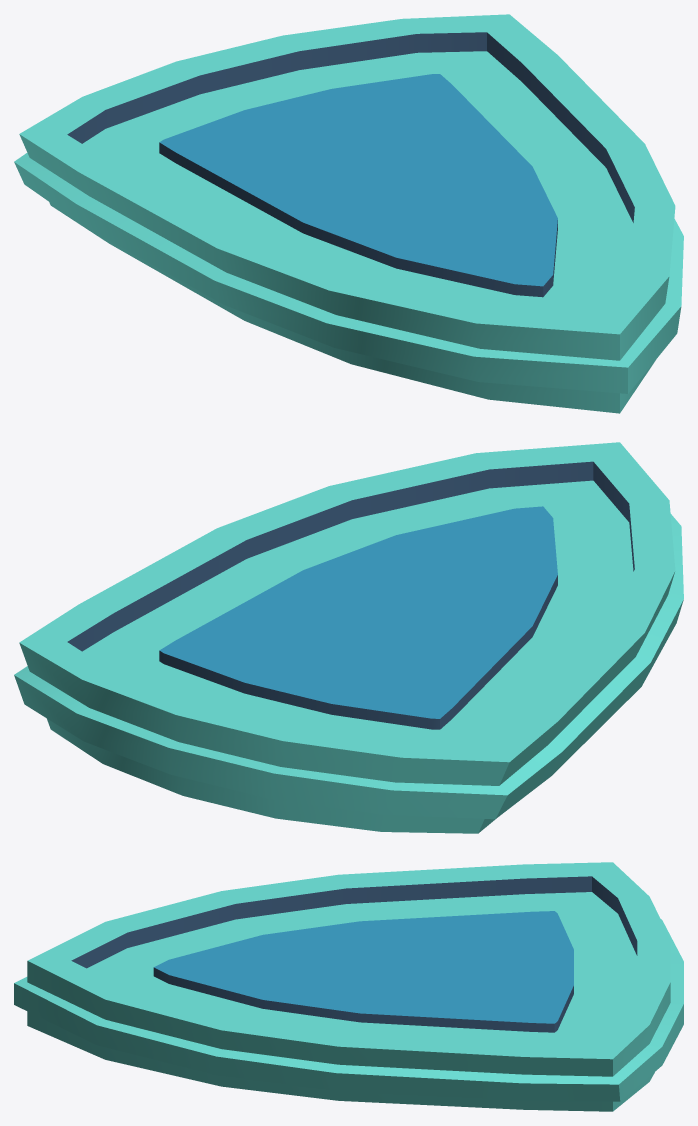
Rendered from Shield.fbx.
The picture shows the model from 3 angles, top to bottom: view 1: azimuth 30°, elevation 25°; view 2: azimuth 150°, elevation 25°; view 3: azimuth 270°, elevation 25°; orthographic projection. The views are drawn at different scales.
Parts seen in each view (by area): view 1: Cube; view 2: Cube; view 3: Cube.
Part boxes in pixels (x1,y1,x2,y2): Cube: [14, 14, 683, 413]; Cube: [14, 442, 683, 833]; Cube: [14, 862, 683, 1111].
Bounding box in the file's own units: 151 × 23.13 × 215.
